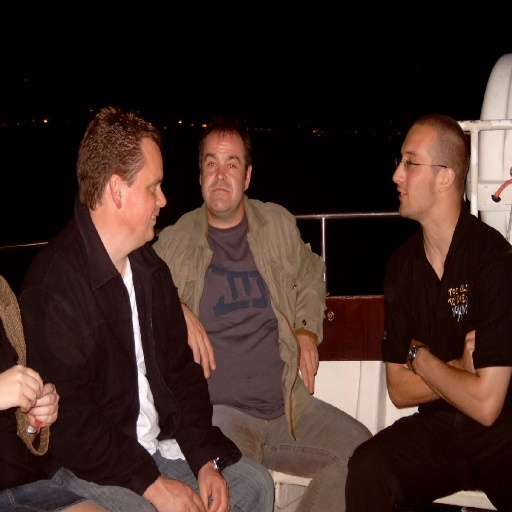hand: (182, 304, 217, 378), (0, 363, 44, 413), (145, 478, 204, 510), (26, 379, 59, 429), (295, 334, 319, 394), (198, 466, 228, 510), (460, 330, 476, 373)
